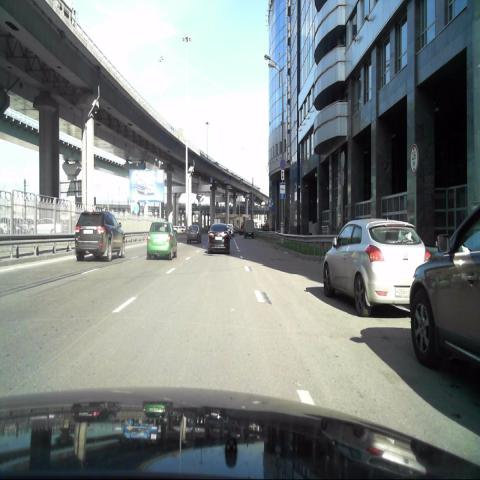3_13: (410, 143, 419, 174)
